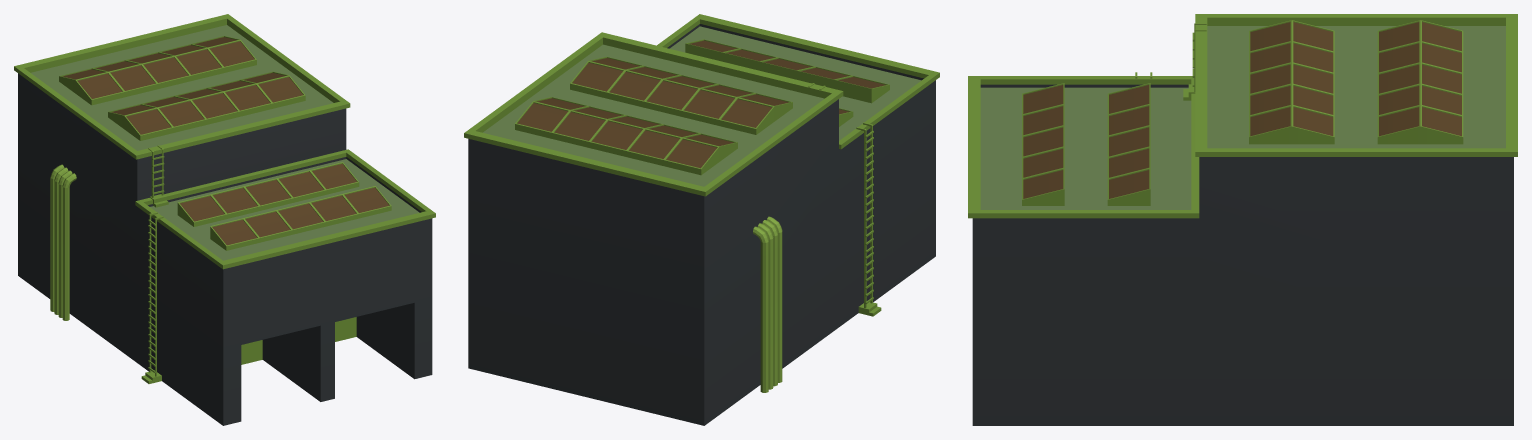
File: Factory_03.fbx
3 views of the same model, side by side, from view 1: azimuth 30°, elevation 25°; view 2: azimuth 150°, elevation 25°; view 3: azimuth 270°, elevation 25° (orthographic). The views are drawn at different scales.
Visible parts, largest first — view 1: Factory_03; view 2: Factory_03; view 3: Factory_03.
Boxes of the visible parts, x1,y1,x2,y2 form: Factory_03: (14,14,435,425); Factory_03: (464,14,939,425); Factory_03: (968,14,1517,425).
Size of the model in its own units: 11.81 by 10.87 by 18.97.
